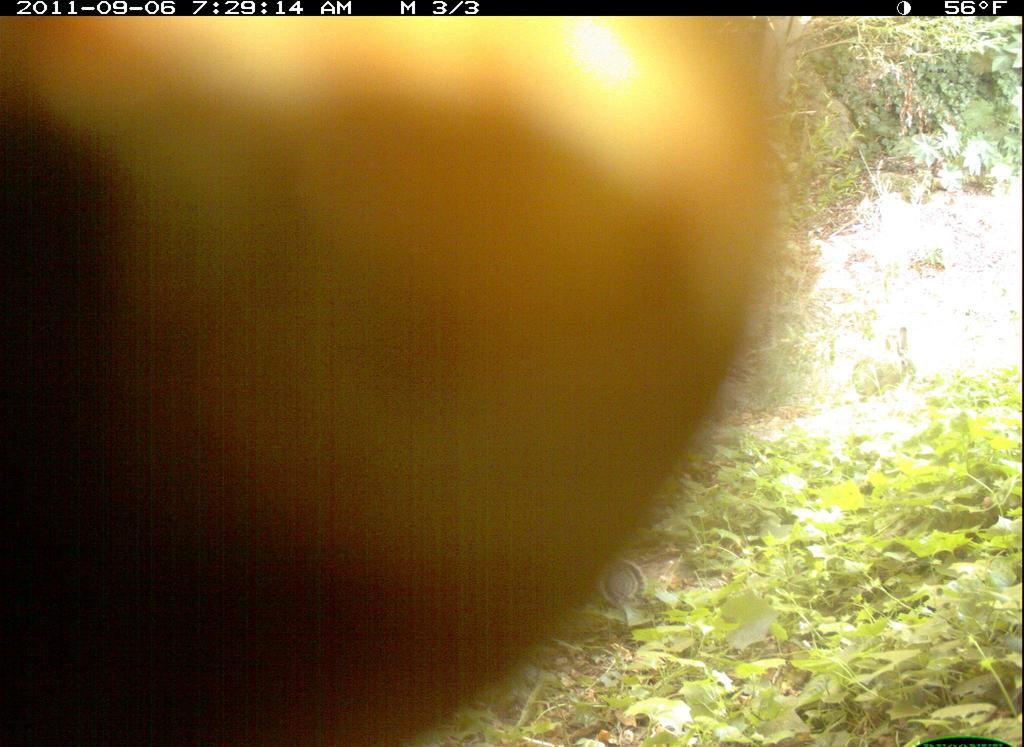squirrel: (1, 17, 810, 747)
